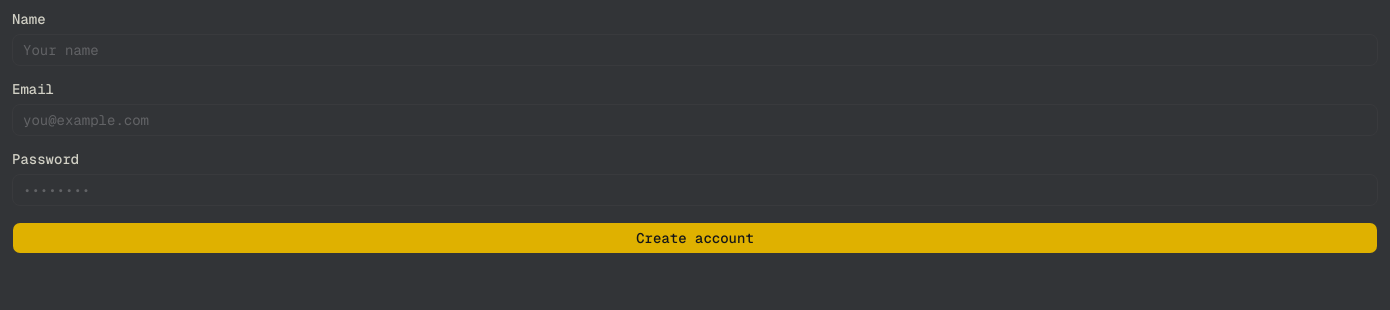
Test: RegisterForm › shows server error on failed registration
Type "John" into the field with placeholder "Your name" at [695, 50], box [12,34,1378,66]
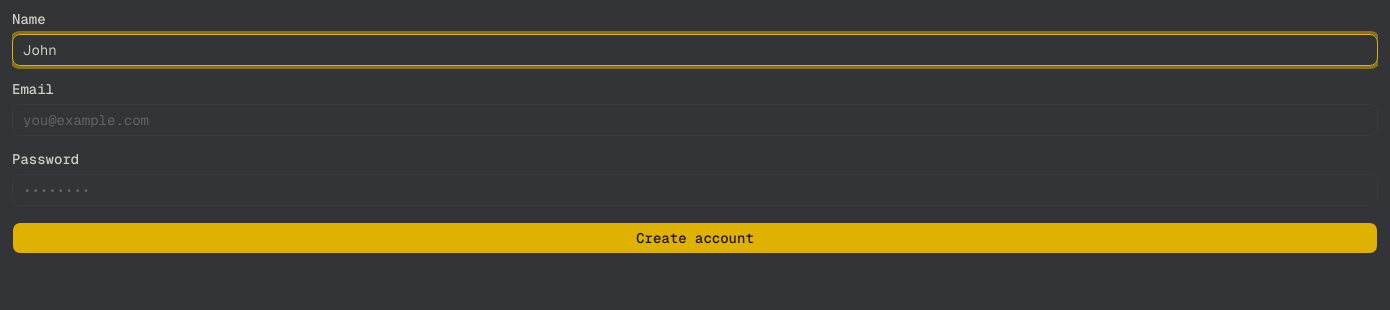
Type "john@example.com" into the field with placeholder "you@example.com" at [695, 120], box [12,104,1378,136]
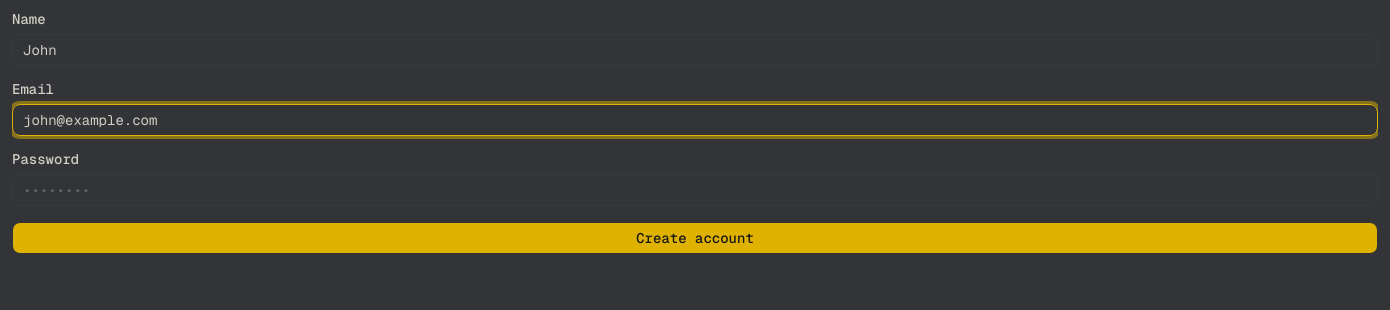
Type "12345678" into the password field with placeholder "••••••••" at [695, 190], box [12,174,1378,206]
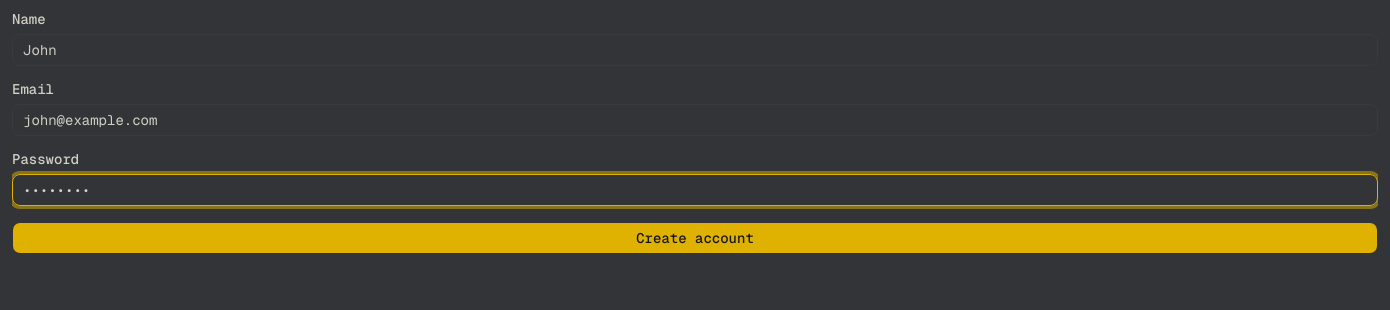
Click the button "Create account" at [695, 238], box [12,222,1378,254]
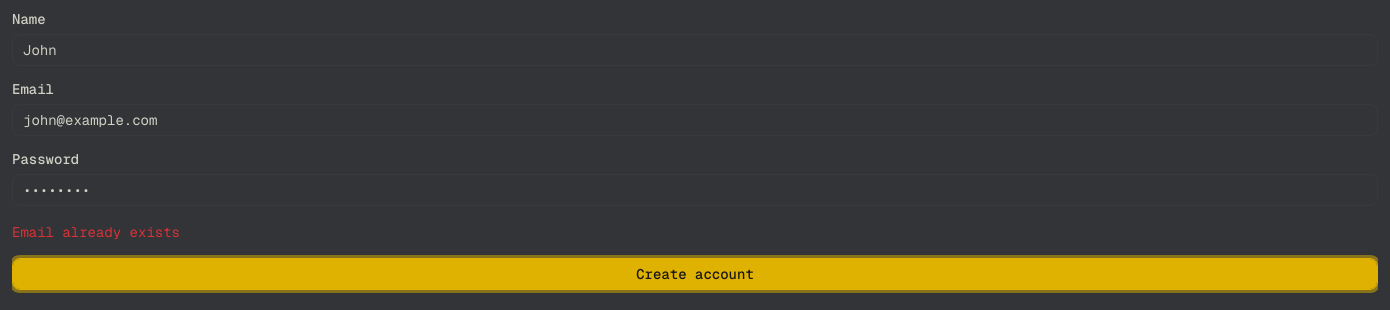
Check: the text "Email already exists" is shown, box [12,223,180,241]
